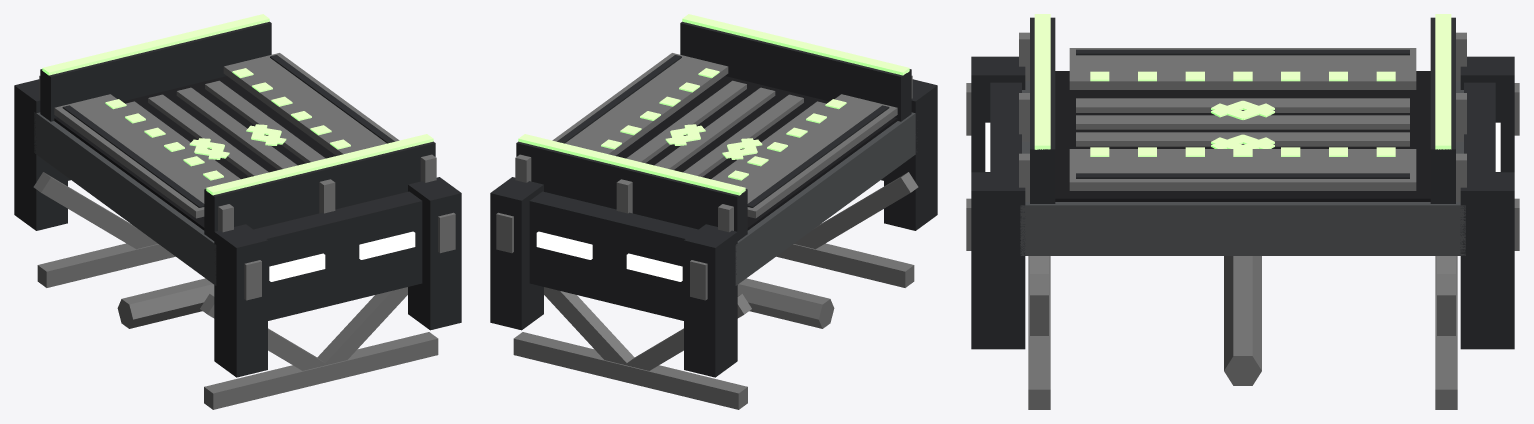
File: Deck_Conveyor_Belt_v4_2.glb
3 renders of one model, left to right at view 1: azimuth 30°, elevation 25°; view 2: azimuth 150°, elevation 25°; view 3: azimuth 270°, elevation 25°, orthographic. The views are drawn at different scales.
Parts seen in each view (by area): view 1: Deck_Conveyor_Belt_v4_2, Treads, TreadsRev; view 2: Deck_Conveyor_Belt_v4_2, Treads, TreadsRev; view 3: Deck_Conveyor_Belt_v4_2, Treads, TreadsRev.
Boxes of the visible parts, <box> form: Deck_Conveyor_Belt_v4_2: <box>14,14,461,409</box>; Treads: <box>125,80,325,181</box>; TreadsRev: <box>129,83,323,181</box>; Deck_Conveyor_Belt_v4_2: <box>490,14,937,409</box>; Treads: <box>626,80,826,181</box>; TreadsRev: <box>631,84,817,181</box>; Deck_Conveyor_Belt_v4_2: <box>966,14,1519,409</box>; Treads: <box>1076,98,1409,148</box>; TreadsRev: <box>1076,98,1409,148</box>.
Bounding box in the file's own units: 2.09 × 1.83 × 3.48.
